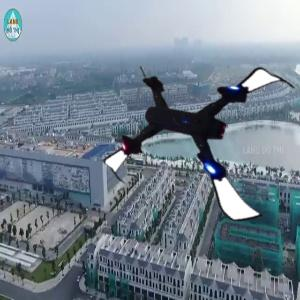drone: (120, 41, 294, 215)
